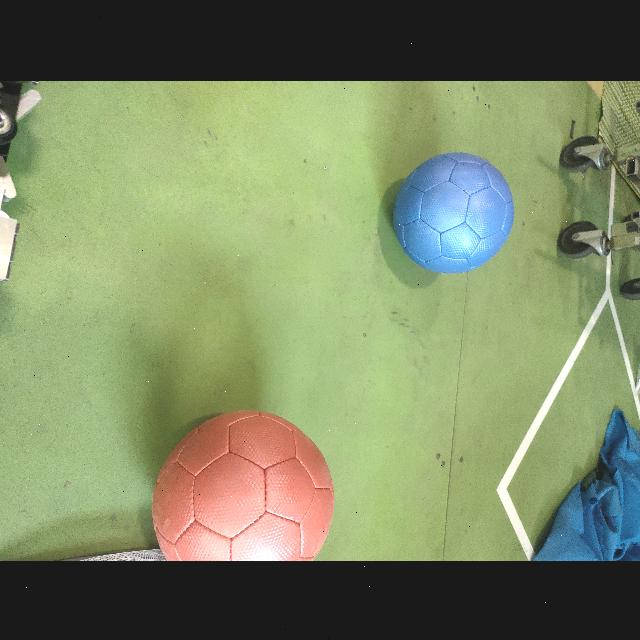B: (387, 151, 514, 274)
R: (149, 409, 334, 560)
